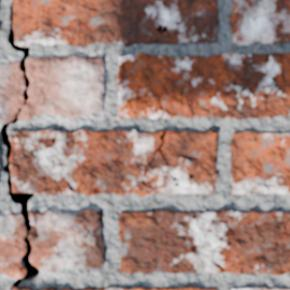brick: (11, 131, 217, 196), (117, 53, 289, 118), (118, 210, 289, 274), (13, 0, 217, 45), (231, 132, 289, 195), (231, 0, 289, 44), (131, 288, 198, 289), (11, 287, 30, 289), (233, 288, 269, 289), (98, 288, 125, 289)
broken_brick: (21, 55, 105, 121), (30, 209, 105, 273), (0, 213, 25, 280), (0, 61, 23, 123)
crack: (0, 2, 41, 287), (142, 131, 180, 187), (273, 216, 289, 252)
